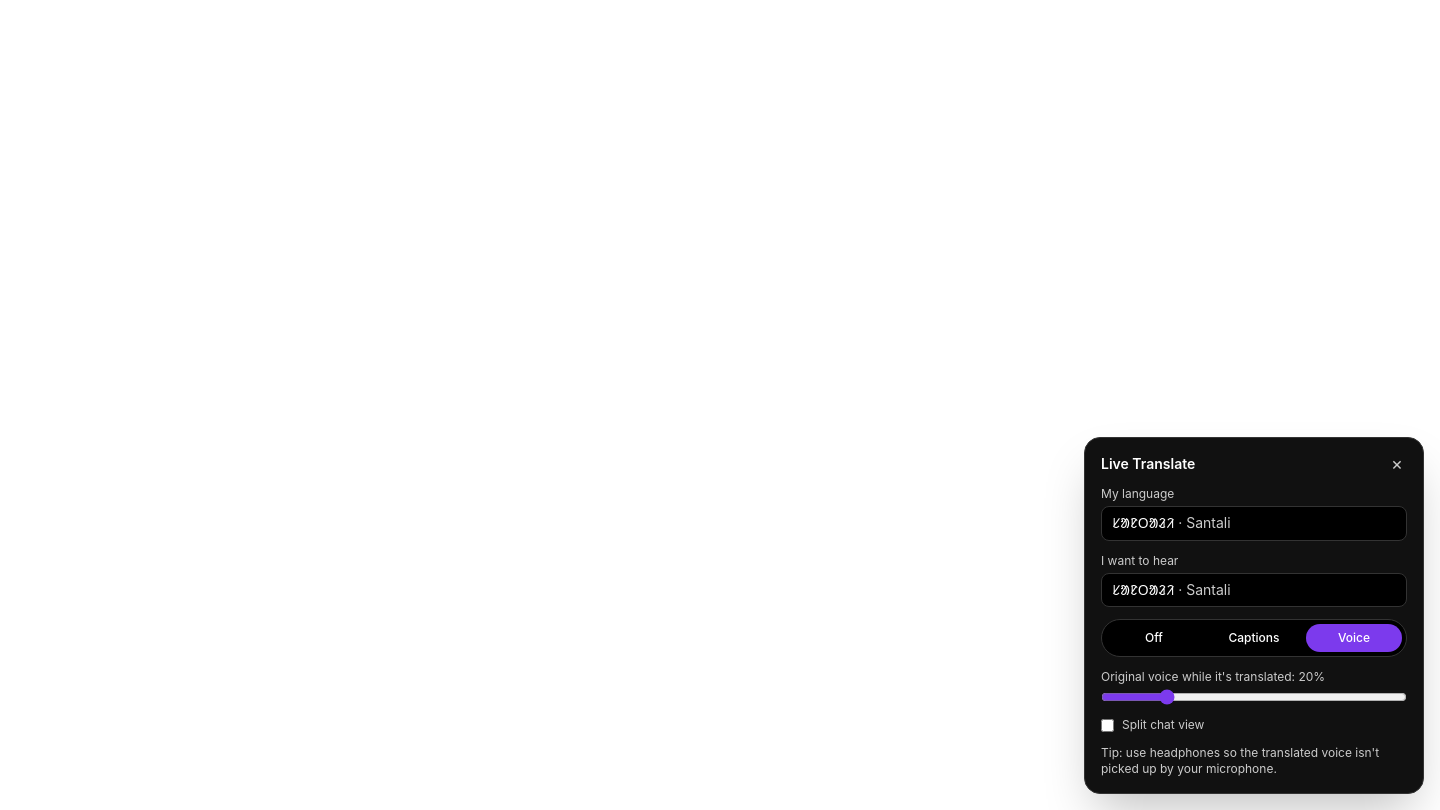
Test case: TranslationPanel › uses server languages with voice/captions badges when available
Expected: the text "ᱥᱟᱱᱛᱟᱲᱤ" below "My language" is shown, x1=1112 y1=513 x2=1174 y2=532
Click the button named "i want to hear" at (1143, 589), box x1=1101 y1=573 x2=1407 y2=607
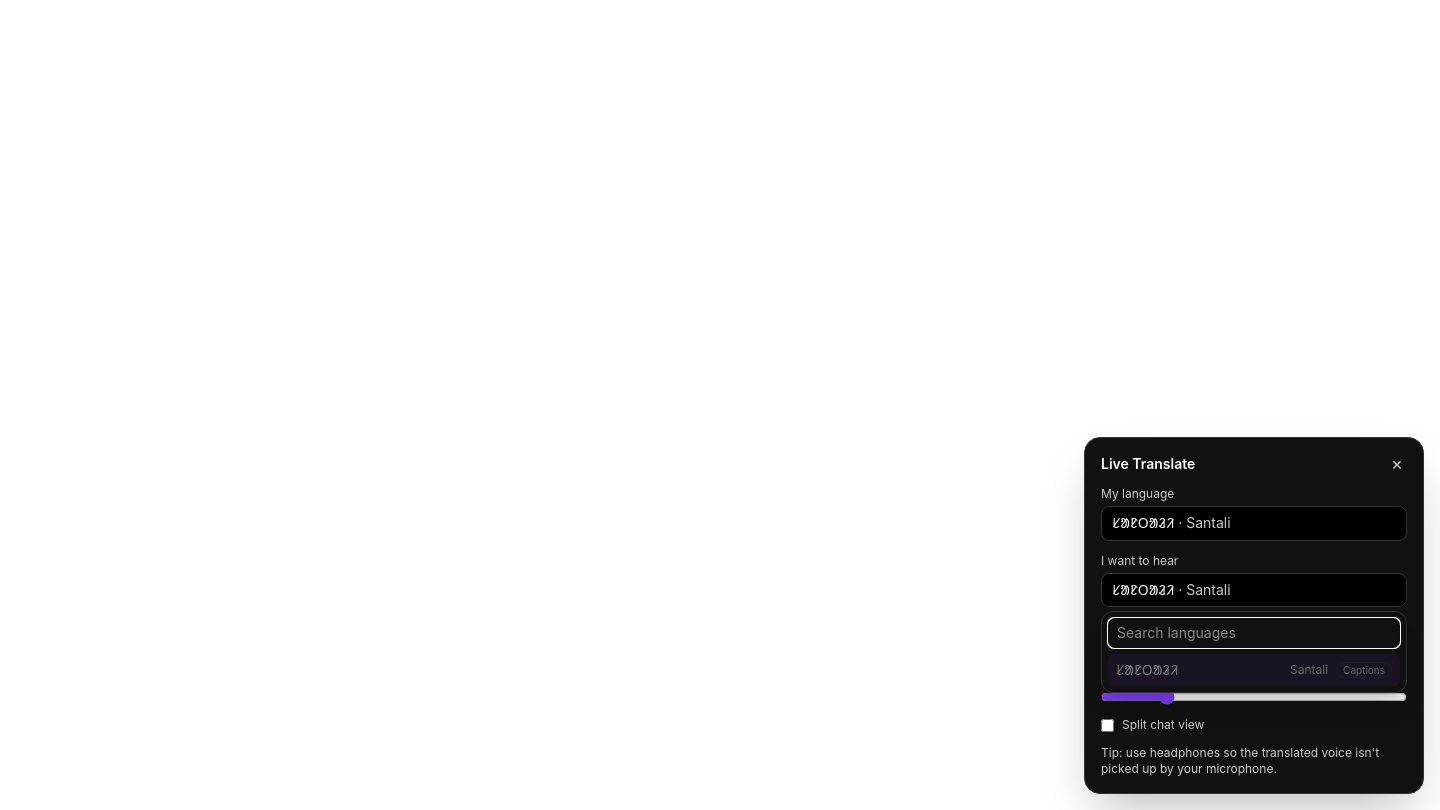
Expected: the option "Santali" does not show "Voice"
Now the option "ᱥᱟᱱᱛᱟᱲᱤ Santali Captions" is shown, box x1=1108 y1=654 x2=1400 y2=686
